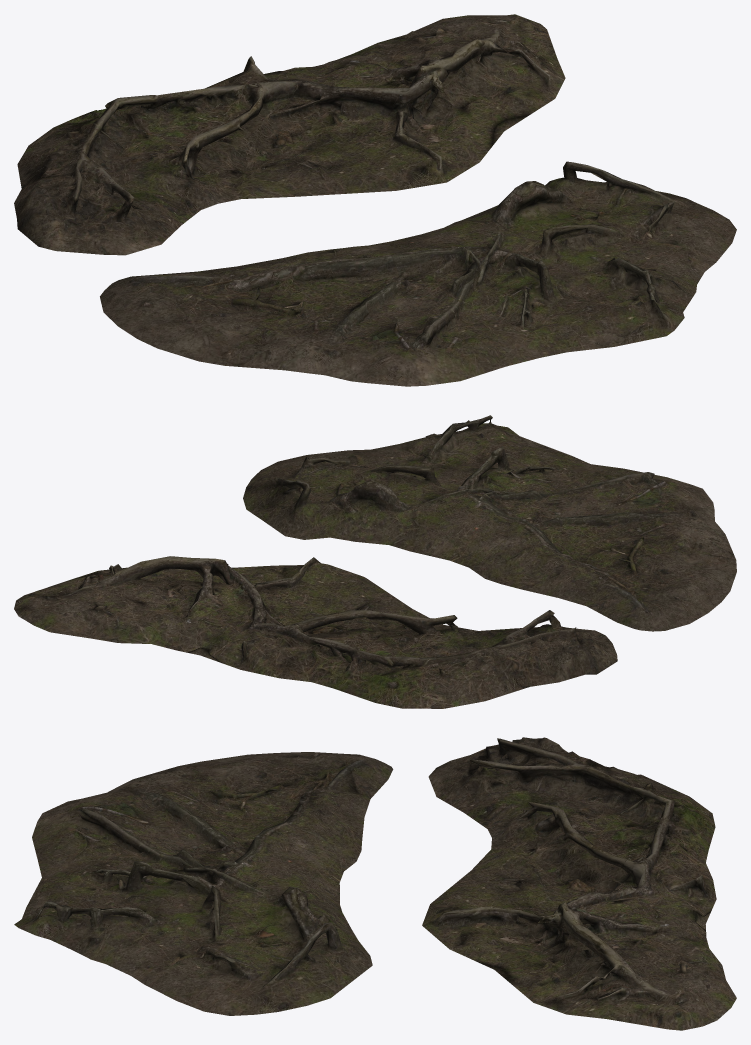
The model's file is pine_roots.glb.
The picture shows the model from 3 angles, top to bottom: view 1: azimuth 30°, elevation 25°; view 2: azimuth 150°, elevation 25°; view 3: azimuth 270°, elevation 25°; orthographic projection. The views are drawn at different scales.
Visible parts, largest first — view 1: pine_roots_b, pine_roots_a; view 2: pine_roots_b, pine_roots_a; view 3: pine_roots_b, pine_roots_a.
Boxes of the visible parts, left/top/right/bottom form: pine_roots_b: left=100, top=161, right=736, bottom=386; pine_roots_a: left=14, top=14, right=565, bottom=255; pine_roots_b: left=243, top=415, right=736, bottom=631; pine_roots_a: left=14, top=556, right=617, bottom=708; pine_roots_b: left=14, top=752, right=393, bottom=1015; pine_roots_a: left=422, top=737, right=736, bottom=1030.
Bounding box in the file's own units: 1.77 × 0.1538 × 1.89.
2 materials, 2 textured.
